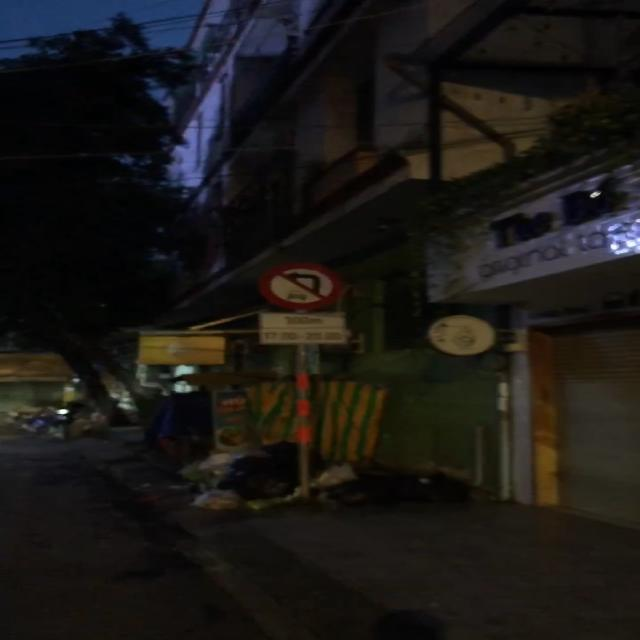Bien bao cam xe o to re trai: (258, 263, 336, 309)
